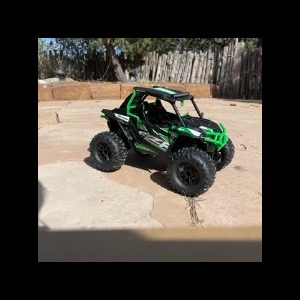polaris: (88, 85, 237, 198)
